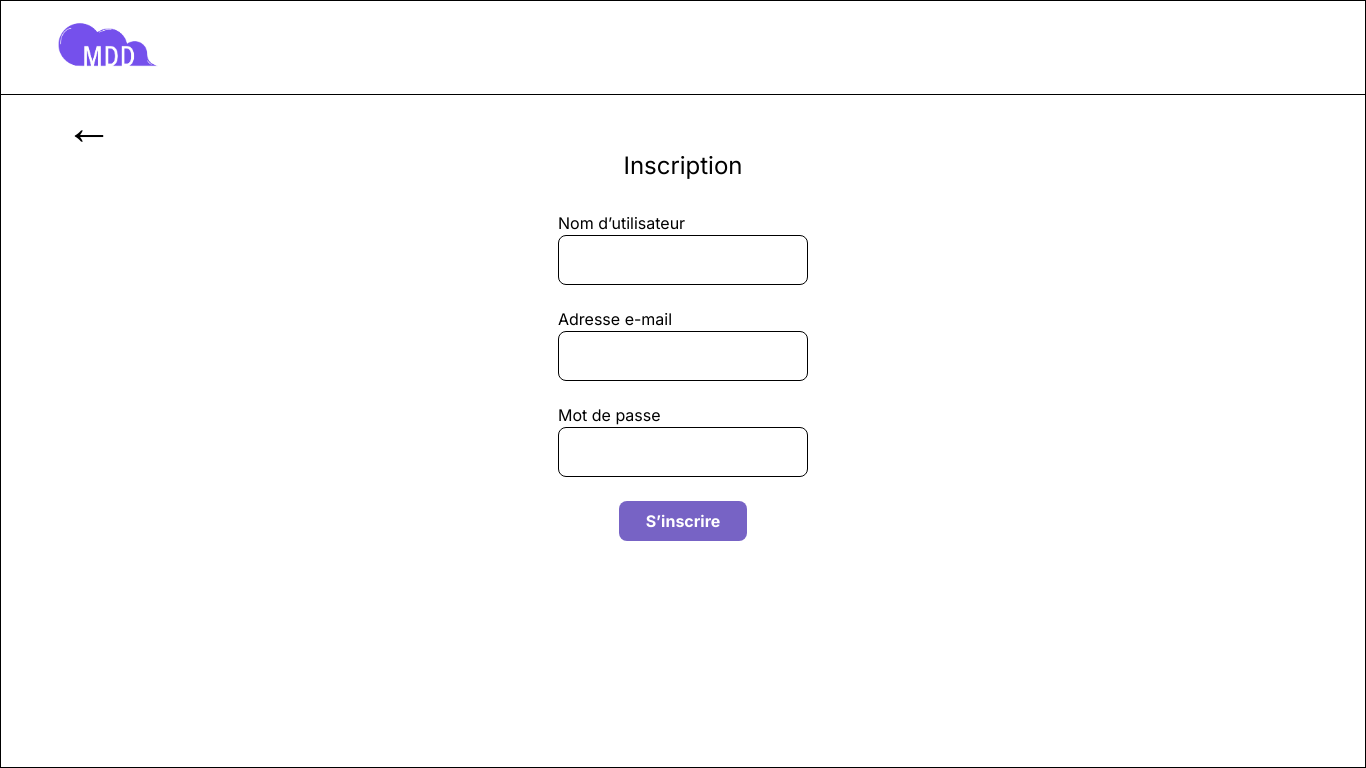
it: Registration › displays a backend validation message below the invalid field
The width and height of the screenshot is (1366, 768).
Type "orlando" into the field with id "username". click: (683, 260)
box: x1=558 y1=235 x2=808 y2=285
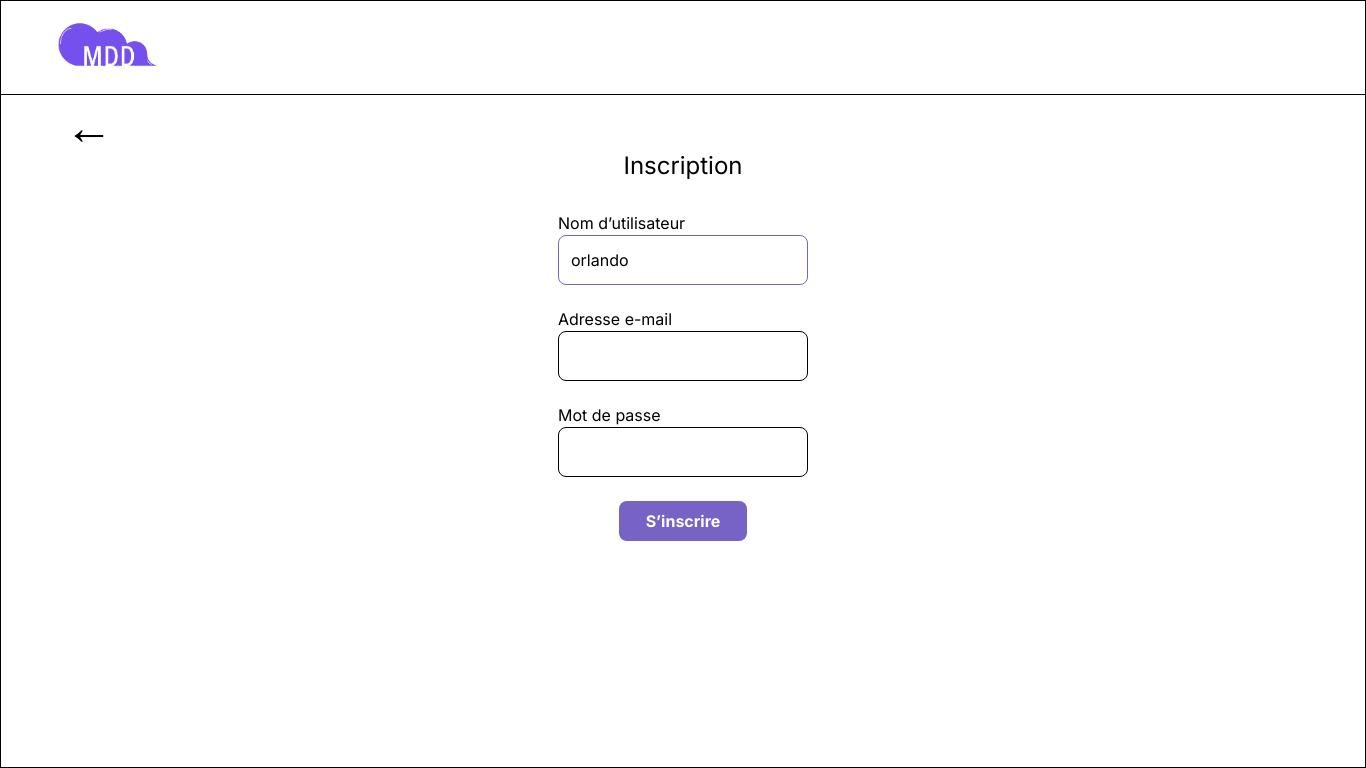
Type "orlando@example.com" into the field with id "email". click: (683, 356)
box: x1=558 y1=331 x2=808 y2=381
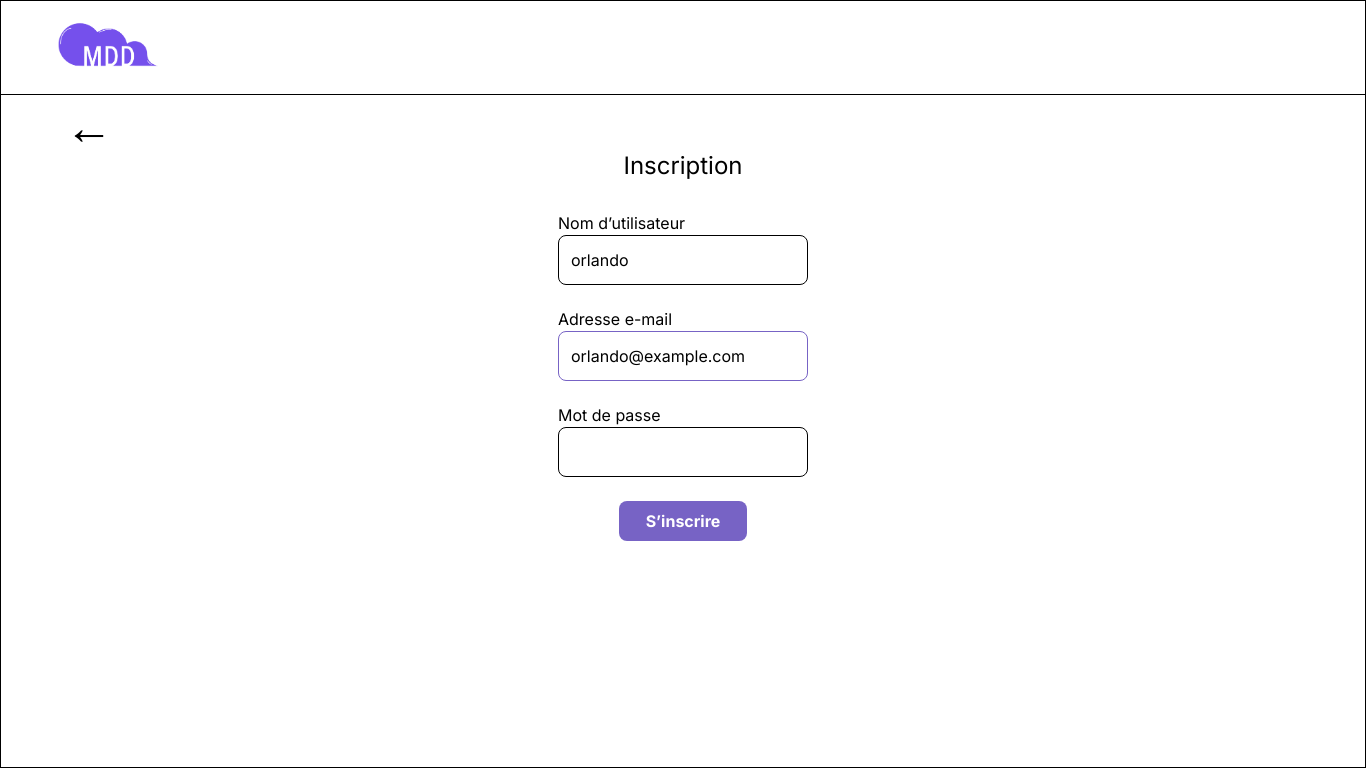
Type "Orion2026!" into the password field labelled "Mot de passe". click: (683, 452)
box: x1=558 y1=427 x2=808 y2=477
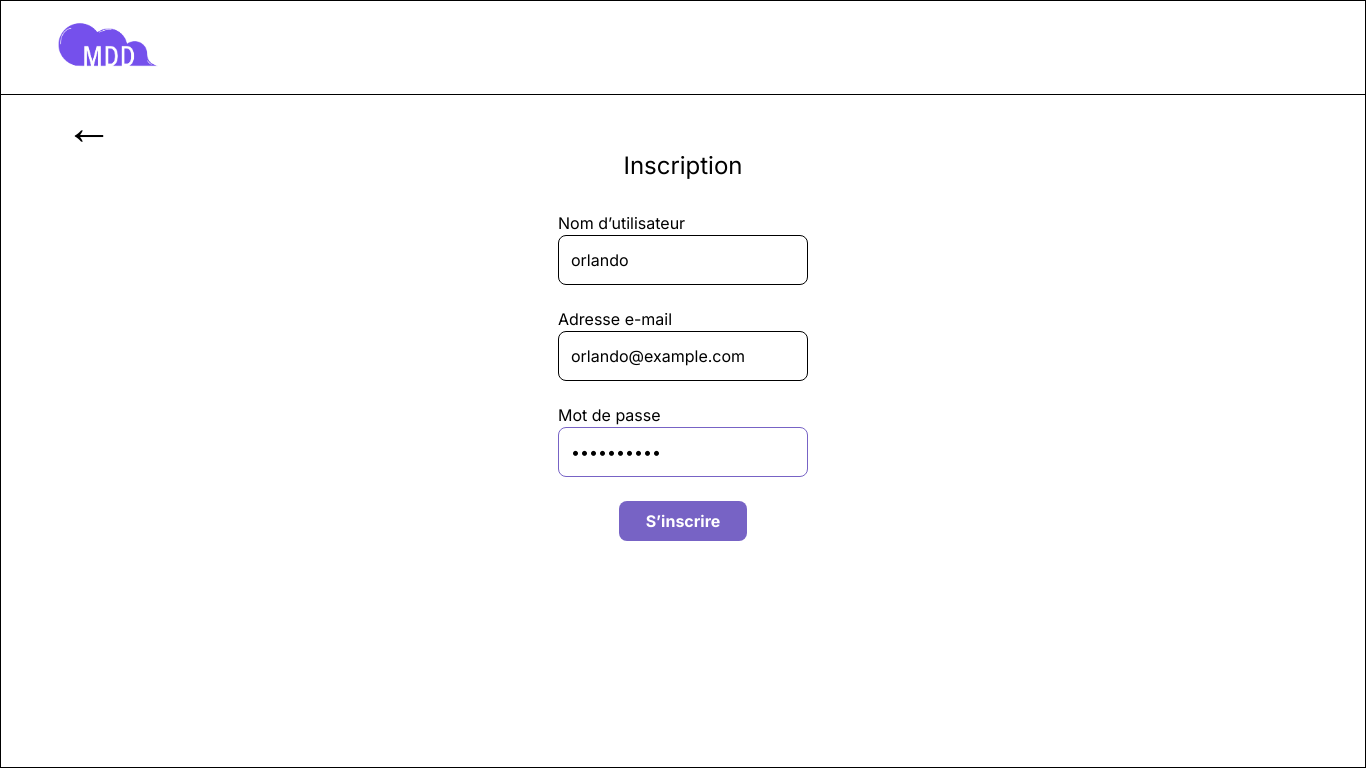
Click the button "S’inscrire". click: (683, 521)
box: x1=619 y1=501 x2=747 y2=541
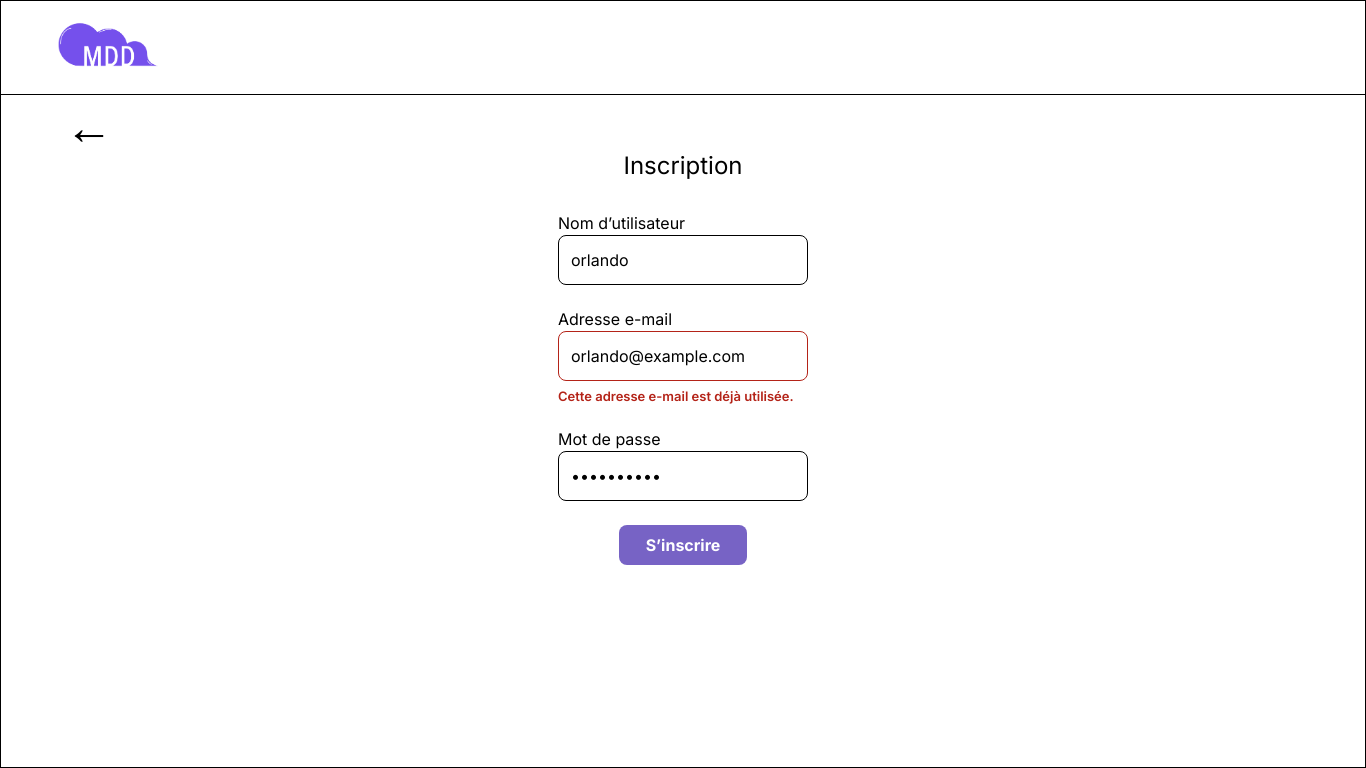
Now the text with id "email-error" reads "Cette adresse e-mail est déjà utilisée.", box x1=558 y1=387 x2=808 y2=405
